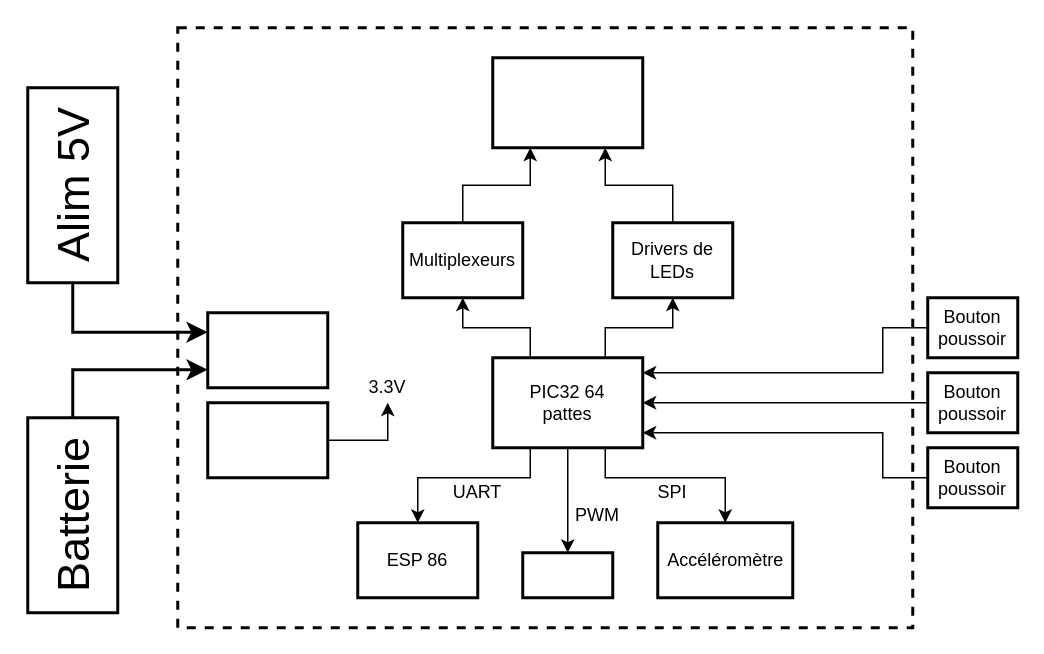
The diagram is 1044 pixels wide and 654 high, and some of its shapes have lost their labels. The shapes that lost their labels are listed below. From the top down, each one's box as (x1, y1, x2, y2) in pixels, then its label:
(490, 56, 644, 148): Matrices à LEDs
(206, 310, 328, 388): Chargeur de batterie
(206, 400, 328, 478): Buck-Boost converter
(520, 550, 614, 598): Buzzer
